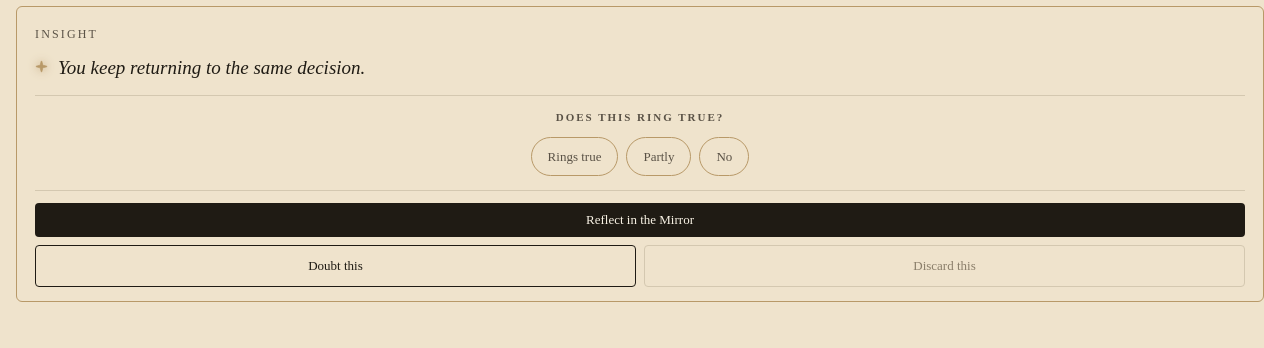
answering › sends partly and confirms
Click the button "Partly". click: (659, 156)
box: [626,136,692,176]
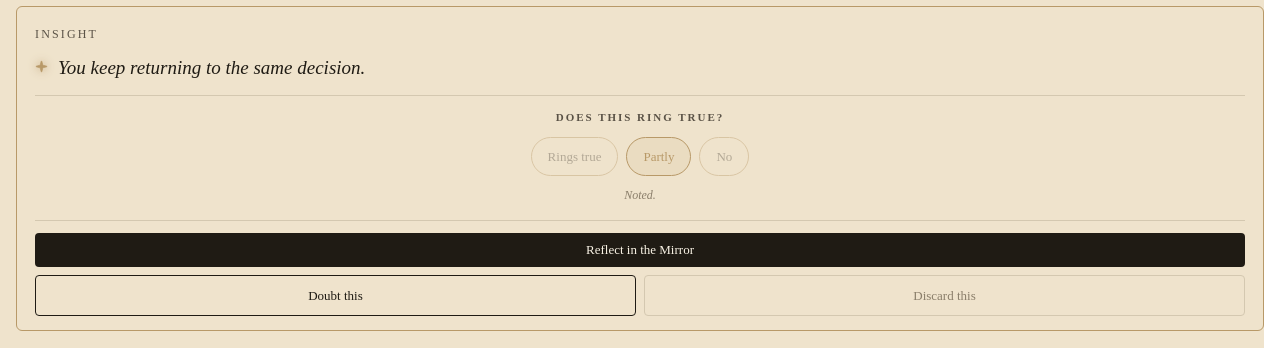
Result: the text "Noted." is shown at [624,186,656,206]
